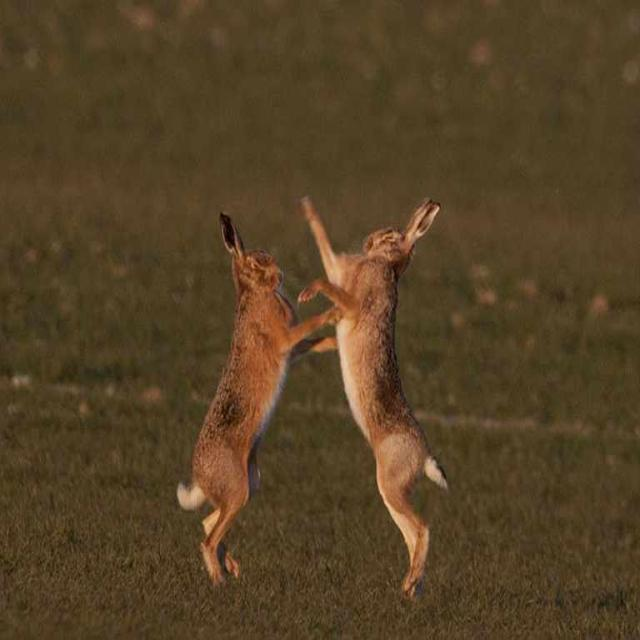Hare: (163, 199, 340, 596), (302, 186, 462, 592)
